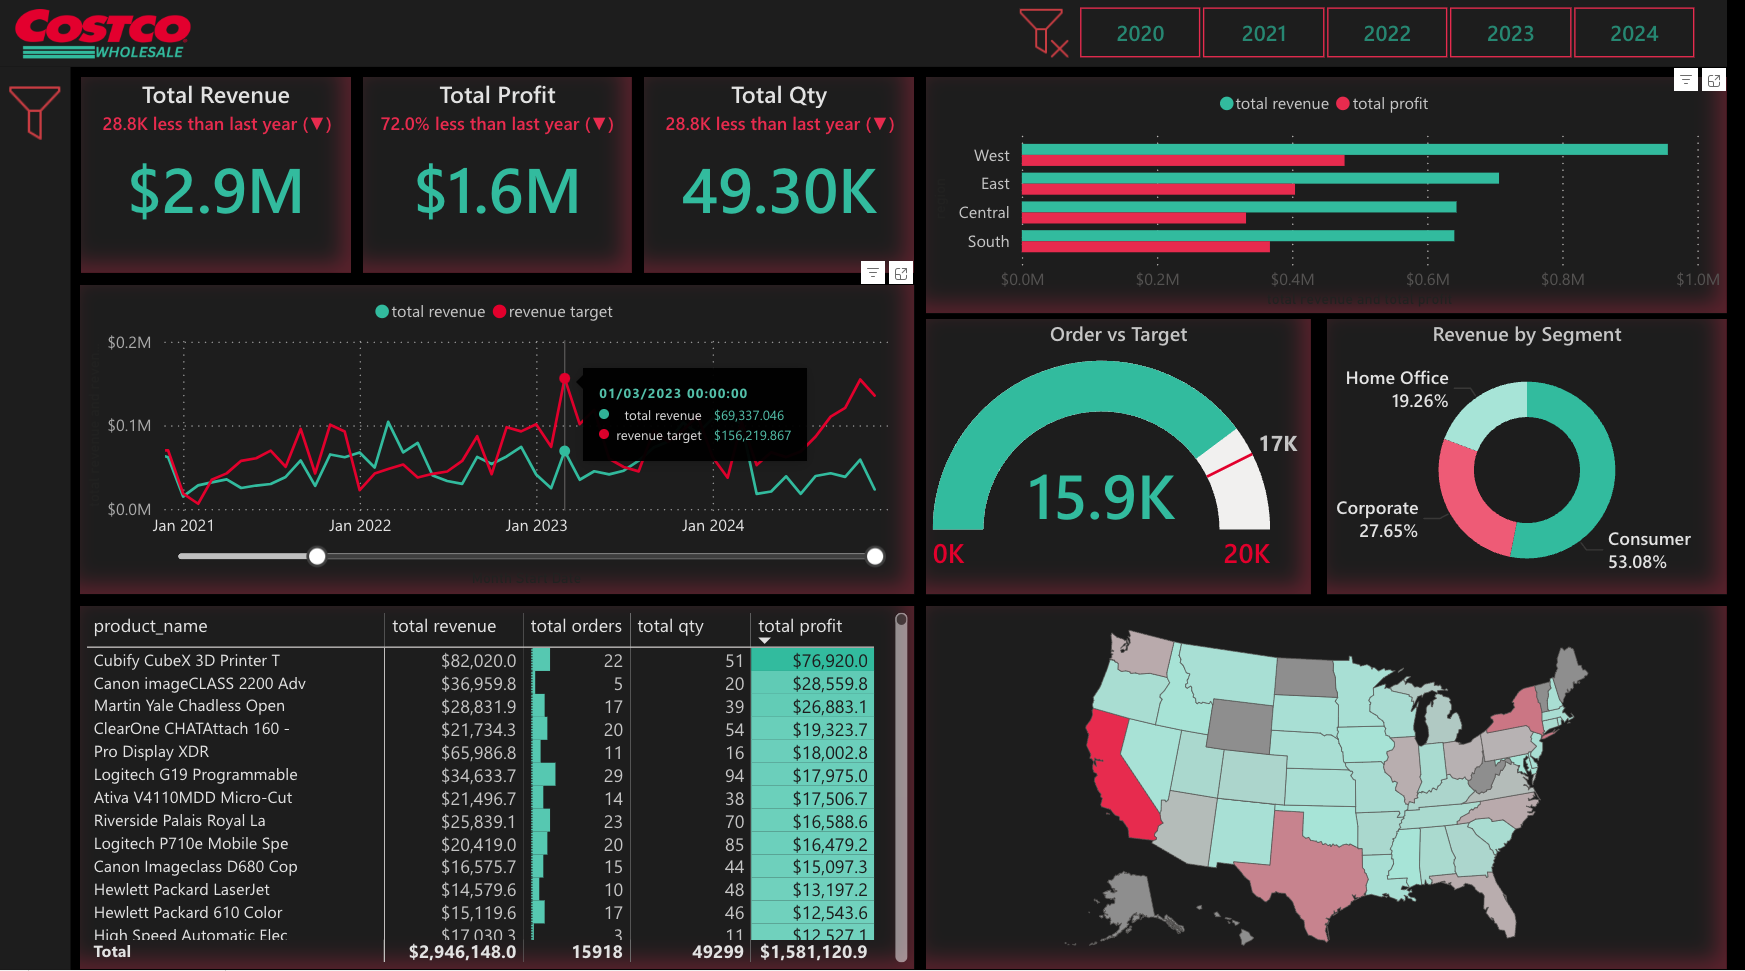

Layout of this report page (visuals, bound fields, positions):
{"tool":"powerbi","page":{"name":"Costco Report ","canvas":[1280,720],"ordinal":0},"visuals":[{"type":"shape","title":"Name Shape","box":[0,0,1280,64.7],"z":0},{"type":"shape","title":"filter shape","box":[0,64.7,70.9,655.6],"z":1000},{"type":"shape","title":"Table Shape","box":[83.7,438.6,587,281.3],"z":2000},{"type":"shape","title":"map shape","box":[682.9,439.1,587.1,281.1],"z":3000},{"type":"shape","box":[682.9,75.9,587.1,175.4],"z":4000},{"type":"shape","box":[682.9,260,288,166.7],"z":5000},{"type":"shape","box":[981.5,260,288.6,166.7],"z":6000},{"type":"shape","box":[83.3,221.4,587.1,204],"z":7000},{"type":"shape","box":[83.3,74.6,186.6,138.1],"z":8000},{"type":"shape","box":[284,74.6,187,138.1],"z":9000},{"type":"shape","box":[485.1,75.9,185.3,138.1],"z":10000},{"type":"card","fields":{"Values":["measures table.total revenue"]},"box":[83.3,75.9,186.6,136.8],"z":11000},{"type":"card","fields":{"Values":["measures table.total profit"]},"box":[283.6,75.9,186.6,138.1],"z":12000},{"type":"card","fields":{"Values":["measures table.total orders"]},"box":[485.1,75.9,185.3,136.8],"z":13000},{"type":"pieChart","fields":{"Y":["measures table.total revenue"],"Category":["customers.Segment"]},"box":[981.5,260,288.6,165.4],"z":14000},{"type":"tableEx","fields":{"Values":["products.product_name","measures table.total revenue","measures table.total orders","measures table.total quantity","measures table.total profit"]},"box":[83.3,439.1,587.1,281.1],"z":15000},{"type":"gauge","fields":{"Y":["measures table.total orders"],"MinValue":["select"],"MaxValue":["select1"],"TargetValue":["measures table.orders target"]},"box":[682.9,279.9,288.6,146.8],"z":16000},{"type":"clusteredBarChart","fields":{"Category":["customers.Region"],"Y":["measures table.total revenue","measures table.total profit"]},"box":[682.9,75.9,587.1,175.4],"z":18000},{"type":"lineChart","fields":{"Category":["calendar.MonthStartDate"],"Y":["measures table.total revenue","measures table.revenue target"]},"box":[83.3,221.4,587.1,204],"z":19000},{"type":"card","fields":{"Values":["measures table.profit KPI"]},"box":[283.6,102,186.6,29.9],"z":20000},{"type":"card","fields":{"Values":["measures table.revenue KPI"]},"box":[87.1,102,186.6,29.9],"z":21000},{"type":"card","fields":{"Values":["measures table.orders KPI"]},"box":[485.1,102,185.3,29.9],"z":22000},{"type":"textbox","box":[83.3,75.9,186.6,34.8],"z":23000},{"type":"textbox","box":[485.1,75.9,186.6,34.8],"z":24000},{"type":"textbox","box":[283.6,75.9,186.6,34.8],"z":25000},{"type":"textbox","box":[83.3,225.2,293.6,34.8],"z":26000},{"type":"textbox","box":[682.9,260,288.6,34.8],"z":27000},{"type":"textbox","box":[981.5,252.5,288.6,34.8],"z":28000},{"type":"image","box":[0,0,172.9,64.7],"z":29000},{"type":"slicer","fields":{"Values":["calendar.Year"]},"box":[682.9,0,574.7,64.7],"z":30000},{"type":"image","box":[0,56,70.9,88.3],"z":30001},{"type":"image","box":[569.7,0,113.2,64.7],"z":30002},{"type":"shapeMap","fields":{"Category":["customers.State"],"Value":["measures table.total revenue"]},"box":[682.9,439.1,587.1,281.1],"z":30010}]}

Visuals, with their boxes in screenshot pixels (x1, y1, x2, y2), scaled from the page's 1280x720 canvas onto the 1745x971 screenshot:
"Name Shape" shape: [0,0,1744,87]
"filter shape" shape: [0,87,97,970]
"Table Shape" shape: [114,592,914,970]
"map shape" shape: [931,592,1731,970]
shape: [931,102,1731,339]
shape: [931,351,1324,575]
shape: [1338,351,1732,575]
shape: [114,299,914,574]
shape: [114,101,368,287]
shape: [387,101,642,287]
shape: [661,102,914,289]
card - measures table.total revenue: [114,102,368,287]
card - measures table.total profit: [387,102,641,289]
card - measures table.total orders: [661,102,914,287]
pieChart - measures table.total revenue x customers.Segment: [1338,351,1732,574]
tableEx - products.product_name x measures table.total revenue: [114,592,914,970]
gauge - measures table.total orders x select: [931,377,1324,575]
clusteredBarChart - customers.Region x measures table.total revenue: [931,102,1731,339]
lineChart - calendar.MonthStartDate x measures table.total revenue: [114,299,914,574]
card - measures table.profit KPI: [387,138,641,178]
card - measures table.revenue KPI: [119,138,373,178]
card - measures table.orders KPI: [661,138,914,178]
textbox: [114,102,368,149]
textbox: [661,102,916,149]
textbox: [387,102,641,149]
textbox: [114,304,514,351]
textbox: [931,351,1324,398]
textbox: [1338,341,1732,387]
image: [0,0,236,87]
slicer - calendar.Year: [931,0,1714,87]
image: [0,76,97,195]
image: [777,0,931,87]
shapeMap - customers.State x measures table.total revenue: [931,592,1731,970]
